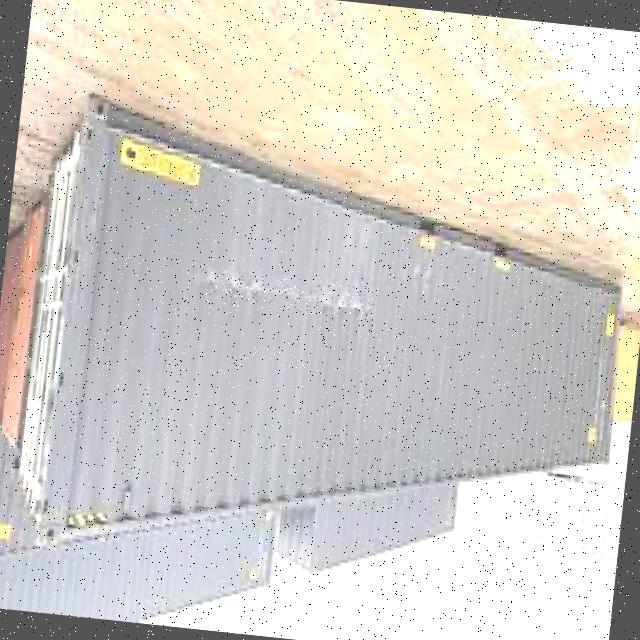Dent: (204, 268, 378, 321)
